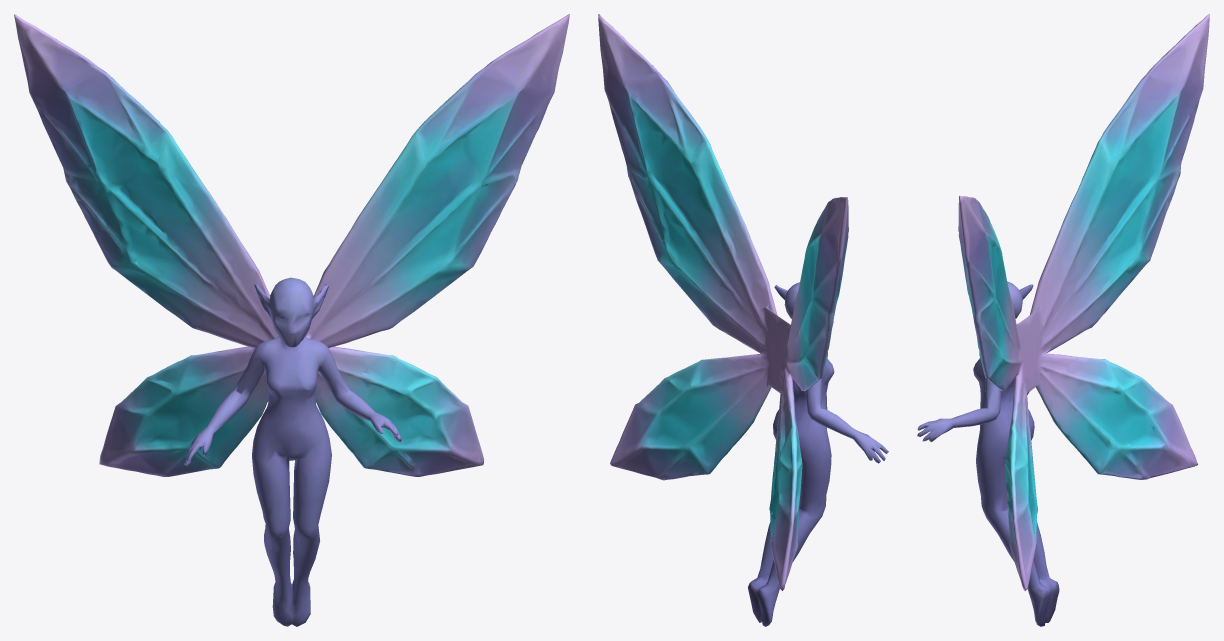
The model's file is source.glb.
3 views of the same model, side by side, from view 1: azimuth 30°, elevation 25°; view 2: azimuth 150°, elevation 25°; view 3: azimuth 270°, elevation 25° (orthographic). The views are drawn at different scales.
Visible parts, largest first — view 1: tripo_node_e1a15d3e-f592-4d51-8e06-95f7637ec58a; view 2: tripo_node_e1a15d3e-f592-4d51-8e06-95f7637ec58a; view 3: tripo_node_e1a15d3e-f592-4d51-8e06-95f7637ec58a.
Part boxes in pixels (x1,y1,x2,y2): tripo_node_e1a15d3e-f592-4d51-8e06-95f7637ec58a: (14,14,569,626); tripo_node_e1a15d3e-f592-4d51-8e06-95f7637ec58a: (598,14,888,626); tripo_node_e1a15d3e-f592-4d51-8e06-95f7637ec58a: (917,14,1209,626).
Bounding box in the file's own units: 0.8493 × 1.15 × 0.5758.
Materials: 1 (1 with a texture image).
